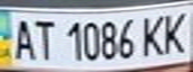0: (78, 18, 103, 62)
1: (60, 18, 84, 62)
6: (115, 15, 142, 61)
8: (100, 17, 121, 61)
A: (6, 15, 39, 62)
K: (157, 8, 193, 55), (136, 11, 169, 57)
T: (30, 17, 57, 62)
